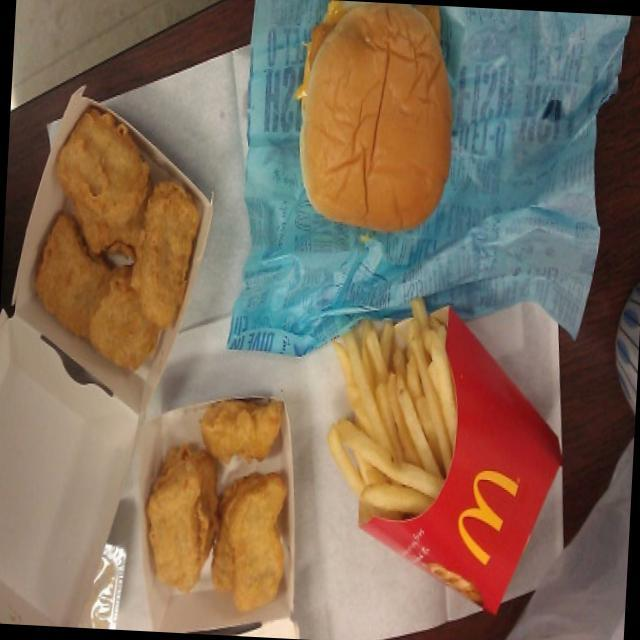French Fries: (326, 301, 475, 550)
Hamburger: (284, 3, 462, 246)
